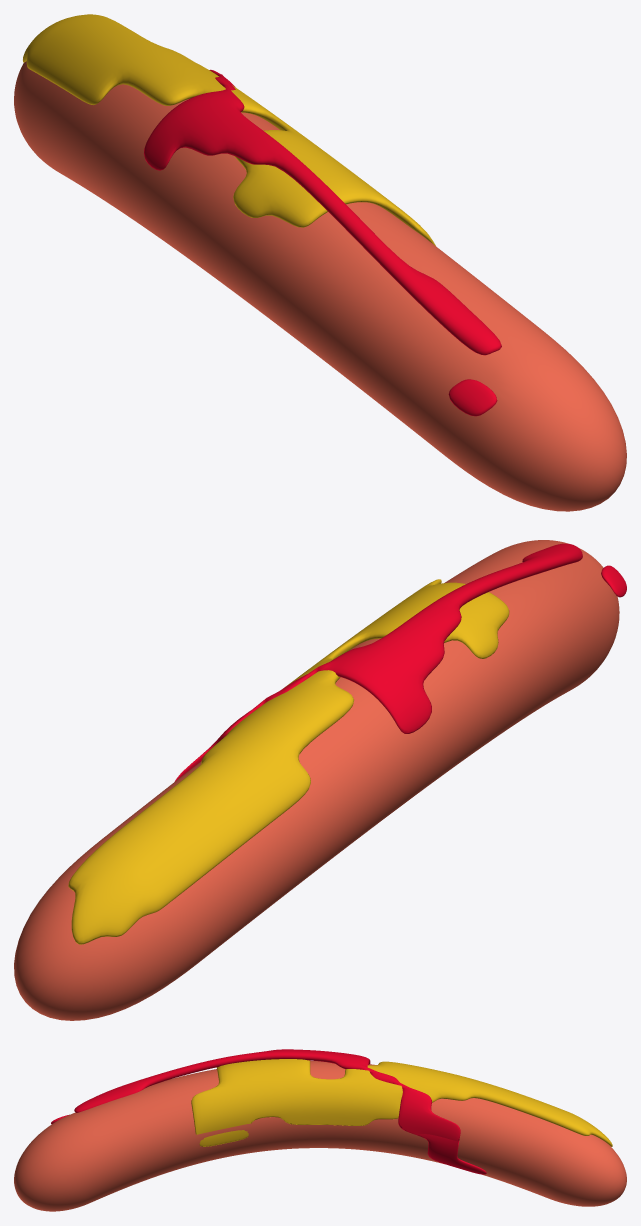
Rendered from HotDogfbx.fbx.
The picture shows the model from 3 angles, top to bottom: view 1: azimuth 30°, elevation 25°; view 2: azimuth 150°, elevation 25°; view 3: azimuth 270°, elevation 25°; orthographic projection. The views are drawn at different scales.
Parts seen in each view (by area): view 1: Sphere.001; view 2: Sphere.001; view 3: Sphere.001.
Boxes of the visible parts, <box> form: Sphere.001: <box>14,14,626,511</box>; Sphere.001: <box>14,540,626,1020</box>; Sphere.001: <box>14,1049,626,1211</box>.
Size of the model in its own units: 19.88 by 22.42 by 93.87.
